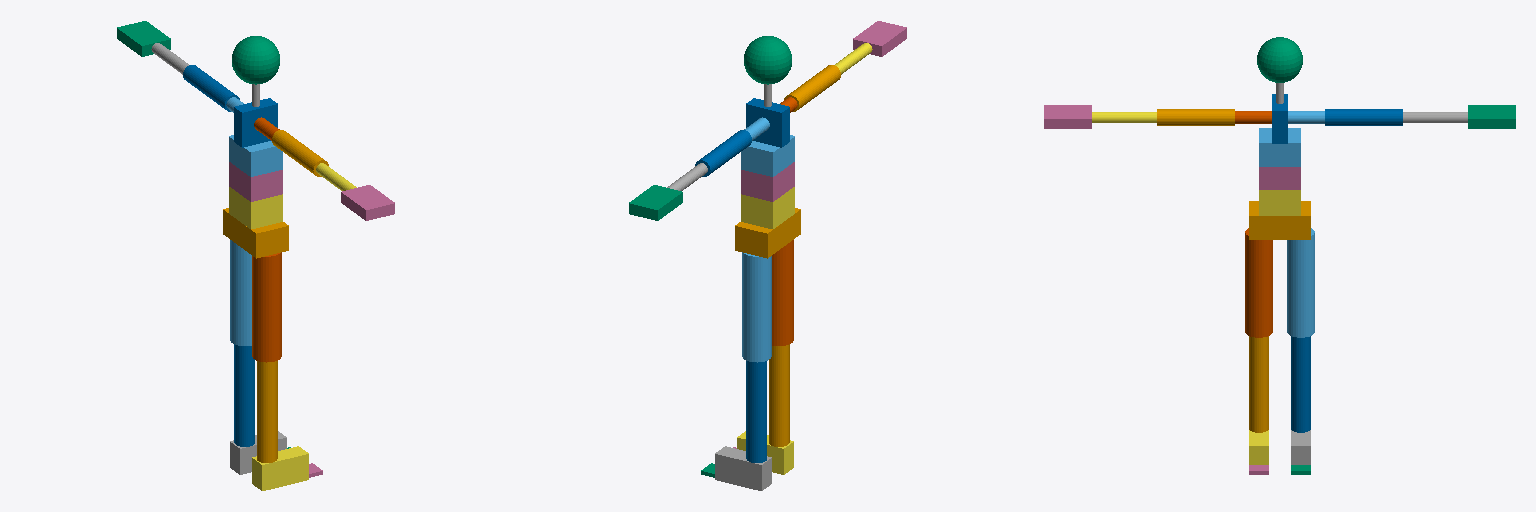
--- Render facts (derived) ---
Views: 3 orthographic renders of the robot side by side, from view 1: azimuth 30°, elevation 25°; view 2: azimuth 150°, elevation 25°; view 3: azimuth 270°, elevation 25°.
Robot: XSensStyleModel_template — 67 links, 66 joints (66 revolute); root link Pelvis; default pose: all joints at 0.
Visible links, largest first — view 1: RightUpperLeg, LeftUpperLeg, RightLowerLeg, LeftLowerLeg, Head, Pelvis, RightFoot, T12, L5, T8, L3, RightHand (+4 smaller); view 2: LeftUpperLeg, RightUpperLeg, LeftLowerLeg, RightLowerLeg, Head, Pelvis, LeftFoot, T12, L5, T8, L3, LeftHand (+4 smaller); view 3: RightUpperLeg, LeftUpperLeg, RightLowerLeg, LeftLowerLeg, Pelvis, Head, T12, RightUpperArm, LeftUpperArm, RightHand, LeftHand, L5 (+6 smaller).
Link boxes in pixels (x1,y1,x2,y2): RightUpperLeg: (252,252,281,362); LeftUpperLeg: (230,240,251,345); RightLowerLeg: (257,361,277,462); LeftLowerLeg: (234,344,254,446); Head: (232,36,279,84); Pelvis: (223,208,288,258); RightFoot: (252,446,308,490); T12: (229,135,282,176); L5: (229,187,282,228); T8: (234,98,277,147); L3: (229,162,282,201); RightHand: (341,185,394,220); LeftUpperLeg: (742,252,771,362); RightUpperLeg: (772,240,793,345); LeftLowerLeg: (746,361,766,462); RightLowerLeg: (769,344,789,446); Head: (744,36,791,84); Pelvis: (735,208,800,258); LeftFoot: (715,446,771,490); T12: (741,135,794,176); L5: (741,187,794,228); T8: (746,98,789,147); L3: (741,162,794,201); LeftHand: (629,185,682,220); RightUpperLeg: (1245,228,1272,337); LeftUpperLeg: (1287,228,1314,337); RightLowerLeg: (1249,336,1268,432); LeftLowerLeg: (1291,336,1310,432); Pelvis: (1249,201,1310,239); Head: (1257,37,1302,82); T12: (1259,128,1300,166); RightUpperArm: (1157,109,1234,125); LeftUpperArm: (1325,109,1402,125); RightHand: (1044,105,1091,128); LeftHand: (1468,105,1515,128); L5: (1259,190,1300,215).
Bounding box of the posed robot: 0.2995 × 1.8 × 1.74 m (x, y, z).
Geometry: primitives only (box / cylinder / sphere), no mesh files.

The robot description file, URDF, robot "XSensStyleModel_template":
<robot name="XSensStyleModel_template">
<!--To open this model with Gazebo replace the null masses, inertias and dimensions of the 'fake links f1 and f2'-->
    <!--LINKS-->
	<!--Link base (1)-->
	<link name="Pelvis">
        <inertial>
            <mass value="4.9968"/>
			<!--COM origin wrt pHipOrigin-->
            <origin xyz="0           0    0.049333" rpy="0 0 0" />
            <inertia ixx="0.028067" iyy="0.011715" izz="0.031651" ixy="0" ixz="0" iyz="0"/>
        </inertial>

        <visual>
			<!--box origin wrt pHipOrigin-->
            <origin xyz="0           0    0.049333" rpy="0 0 0" />
            <geometry>
                <box size="0.13554     0.24008    0.098815"/>
            </geometry>
        </visual>

        <collision>
			<!--box origin wrt pHipOrigin-->
            <origin xyz="0           0    0.049333" rpy="0 0 0" />
            <geometry>
                <box size="0.13554     0.24008    0.098815"/>
            </geometry>
        </collision>

    </link>
    <!--Chain from (2) to (7)-->
	<link name="L5_f1">
        <inertial>
            <mass value="0.0001"/>
            <origin xyz="0 0 0" rpy="0 0 0" />
            <inertia ixx="0.0003" iyy="0.0003" izz="0.0003" ixy="0" ixz="0" iyz="0"/>
        </inertial>
    </link>
	<link name="L5_f2">
        <inertial>
            <mass value="0.0001"/>
            <origin xyz="0 0 0" rpy="0 0 0" />
            <inertia ixx="0.0003" iyy="0.0003" izz="0.0003" ixy="0" ixz="0" iyz="0"/>
        </inertial>
    </link>
	<link name="L5">
        <inertial>
            <mass value="6.3709"/>
			<!--COM origin wrt jL5S1-->
            <origin xyz="0           0    0.054602" rpy="0 0 0" />
            <inertia ixx="0.047176" iyy="0.03559" izz="0.069139" ixy="0" ixz="0" iyz="0"/>
        </inertial>

        <visual>
			<!--box origin origin wrt jL5S1-->
            <origin xyz="0           0    0.054602" rpy="0 0 0" />
            <geometry>
                <box size="0.13554     0.16014      0.1092"/>
            </geometry>
        </visual>

        <collision>
			<!--box origin origin wrt jL5S1-->
            <origin xyz="0           0    0.054602" rpy="0 0 0" />
            <geometry>
                <box size="0.13554     0.16014      0.1092"/>
            </geometry>
        </collision>
    </link>
	<link name="L3_f1">
        <inertial>
            <mass value="0.0001"/>
            <origin xyz="0 0 0" rpy="0 0 0" />
            <inertia ixx="0.0003" iyy="0.0003" izz="0.0003" ixy="0" ixz="0" iyz="0"/>
        </inertial>
    </link>
	<link name="L3_f2">
        <inertial>
            <mass value="0.0001"/>
            <origin xyz="0 0 0" rpy="0 0 0" />
            <inertia ixx="0.0003" iyy="0.0003" izz="0.0003" ixy="0" ixz="0" iyz="0"/>
        </inertial>
    </link>
	<link name="L3">
        <inertial>
            <mass value="6.3709"/>
			<!--COM origin wrt jL4L3-->
            <origin xyz="0           0    0.049336" rpy="0 0 0" />
            <inertia ixx="0.046013" iyy="0.034427" izz="0.069139" ixy="0" ixz="0" iyz="0"/>
        </inertial>

        <visual>
			<!--box origin origin wrt jL4L3-->
            <origin xyz="0           0    0.049336" rpy="0 0 0" />
            <geometry>
                <box size="0.13554     0.16014    0.098672"/>
            </geometry>
        </visual>

        <collision>
			<!--box origin origin wrt jL4L3-->
            <origin xyz="0           0    0.049336" rpy="0 0 0" />
            <geometry>
                <box size="0.13554     0.16014    0.098672"/>
            </geometry>
        </collision>
    </link>
	<link name="T12_f1">
        <inertial>
            <mass value="0.0001"/>
            <origin xyz="0 0 0" rpy="0 0 0" />
            <inertia ixx="0.0003" iyy="0.0003" izz="0.0003" ixy="0" ixz="0" iyz="0"/>
        </inertial>
    </link>
	<link name="T12_f2">
        <inertial>
            <mass value="0.0001"/>
            <origin xyz="0 0 0" rpy="0 0 0" />
            <inertia ixx="0.0003" iyy="0.0003" izz="0.0003" ixy="0" ixz="0" iyz="0"/>
        </inertial>
    </link>
	<link name="T12">
        <inertial>
            <mass value="6.3709"/>
			<!--COM origin wrt jL1T12-->
            <origin xyz="0           0    0.049336" rpy="0 0 0" />
            <inertia ixx="0.046013" iyy="0.034427" izz="0.069139" ixy="0" ixz="0" iyz="0"/>
        </inertial>

        <visual>
			<!--box origin origin wrt jL1T12-->
            <origin xyz="0           0    0.049336" rpy="0 0 0" />
            <geometry>
                <box size="0.13554     0.16014    0.098672"/>
            </geometry>
        </visual>

        <collision>
			<!--box origin origin wrt jL1T12-->
            <origin xyz="0           0    0.049336" rpy="0 0 0" />
            <geometry>
                <box size="0.13554     0.16014    0.098672"/>
            </geometry>
        </collision>
    </link>
	<link name="T8_f1">
        <inertial>
            <mass value="0.0001"/>
            <origin xyz="0 0 0" rpy="0 0 0" />
            <inertia ixx="0.0003" iyy="0.0003" izz="0.0003" ixy="0" ixz="0" iyz="0"/>
        </inertial>
    </link>
	<link name="T8_f2">
        <inertial>
            <mass value="0.0001"/>
            <origin xyz="0 0 0" rpy="0 0 0" />
            <inertia ixx="0.0003" iyy="0.0003" izz="0.0003" ixy="0" ixz="0" iyz="0"/>
        </inertial>
    </link>
	<link name="T8">
        <inertial>
            <mass value="2.4984"/>
			<!--COM origin wrt jT9T8-->
            <origin xyz="0           0    0.069461" rpy="0 0 0" />
            <inertia ixx="0.0047729" iyy="0.0087452" izz="0.0054818" ixy="0" ixz="0" iyz="0"/>
        </inertial>

        <visual>
			<!--box origin wrt jT9T8-->
            <origin xyz="0           0    0.069461" rpy="0 0 0" />
            <geometry>
                <box size="0.15068     0.06021     0.13892"/>
            </geometry>
        </visual>

        <collision>
			<!--box origin wrt jT9T8-->
            <origin xyz="0           0    0.069461" rpy="0 0 0" />
            <geometry>
                <box size="0.15068     0.06021     0.13892"/>
            </geometry>
        </collision>

    </link>
	<link name="Neck_f1">
        <inertial>
            <mass value="0.0001"/>
            <origin xyz="0 0 0" rpy="0 0 0" />
            <inertia ixx="0.0003" iyy="0.0003" izz="0.0003" ixy="0" ixz="0" iyz="0"/>
        </inertial>
    </link>
	<link name="Neck_f2">
        <inertial>
            <mass value="0.0001"/>
            <origin xyz="0 0 0" rpy="0 0 0" />
            <inertia ixx="0.0003" iyy="0.0003" izz="0.0003" ixy="0" ixz="0" iyz="0"/>
        </inertial>
    </link>
	<link name="Neck">
        <inertial>
            <mass value="0.74952"/>
			<!--COM origin wrt jT1C7-->
            <origin xyz="0           0    0.045917" rpy="0 0 0" />
            <inertia ixx="0.0006888" iyy="0.0006888" izz="0.00032408" ixy="0" ixz="0" iyz="0"/>
        </inertial>

        <visual>
			<!--box origin wrt jT1C7-->
            <origin xyz="0           0    0.045917" rpy="0 0 0" />
            <geometry>
		<cylinder length="0.091834" radius="0.014704"/>
            </geometry>
        </visual>

        <collision>
			<!--box origin wrt jT1C7-->
            <origin xyz="0           0    0.045917" rpy="0 0 0" />
            <geometry>
                <cylinder length="0.091834" radius="0.014704"/>
            </geometry>
        </collision>
    </link>
	<link name="Head_f1">
        <inertial>
            <mass value="0.0001"/>
            <origin xyz="0 0 0" rpy="0 0 0" />
            <inertia ixx="0.0003" iyy="0.0003" izz="0.0003" ixy="0" ixz="0" iyz="0"/>
        </inertial>
    </link>
	<link name="Head_f2">
        <inertial>
            <mass value="0.0001"/>
            <origin xyz="0 0 0" rpy="0 0 0" />
            <inertia ixx="0.0003" iyy="0.0003" izz="0.0003" ixy="0" ixz="0" iyz="0"/>
        </inertial>
    </link>
	<link name="Head">
        <inertial>
            <mass value="2.2486"/>
			<!--COM origin wrt jC1Head-->
            <origin xyz="0           0    0.087994" rpy="0 0 0" />
            <inertia ixx="0.0069641" iyy="0.0069641" izz="0.0069641" ixy="0" ixz="0" iyz="0"/>
        </inertial>

        <visual>
			<!--boc origin wrt jC1Head-->
            <origin xyz="0           0    0.087994" rpy="0 0 0" />
            <geometry>
                <sphere radius="0.087994"/>
            </geometry>
        </visual>

        <collision>
			<!--box origin wrt jC1Head-->
            <origin xyz="0           0    0.087994" rpy="0 0 0" />
            <geometry>
                <sphere radius="0.087994"/>
            </geometry>
        </collision>

    </link>
	<!--Chain from (8) to (11)-->
	<link name="RightShoulder_f1">
        <inertial>
            <mass value="0.0001"/>
            <origin xyz="0 0 0" rpy="0 0 0" />
            <inertia ixx="0.0003" iyy="0.0003" izz="0.0003" ixy="0" ixz="0" iyz="0"/>
        </inertial>
    </link>
	<link name="RightShoulder_f2">
        <inertial>
            <mass value="0.0001"/>
            <origin xyz="0 0 0" rpy="0 0 0" />
            <inertia ixx="0.0003" iyy="0.0003" izz="0.0003" ixy="0" ixz="0" iyz="0"/>
        </inertial>
    </link>
	<link name="RightShoulder">
        <inertial>
            <mass value="1.9363"/>
			<!--COM origin wrt jRightC7Shoulder-->
            <origin xyz="0   -0.069978           0" rpy="0 0 0" />
            <inertia ixx="0.0034631" iyy="0.00060506" izz="0.0034631" ixy="0" ixz="0" iyz="0"/>
        </inertial>

        <visual>
			<!--box origin wrt jRightC7Shoulder. RPY rotated of pi/2.-->
            <origin xyz="0   -0.069978           0" rpy="1.5708 0 0" />
            <geometry>
                <cylinder length="0.13996" radius="0.025"/>
            </geometry>
        </visual>

        <collision>
			<!--box origin wrt jRightC7Shoulder. RPY rotated of pi/2.-->
            <origin xyz="0   -0.069978           0" rpy="1.5708 0 0" />
            <geometry>
                <cylinder length="0.13996" radius="0.025"/>
            </geometry>
        </collision>

    </link>
	<link name="RightUpperArm_f1">
        <inertial>
            <mass value="0.0001"/>
            <origin xyz="0 0 0" rpy="0 0 0" />
            <inertia ixx="0.0003" iyy="0.0003" izz="0.0003" ixy="0" ixz="0" iyz="0"/>
        </inertial>
    </link>
	<link name="RightUpperArm_f2">
        <inertial>
            <mass value="0.0001"/>
            <origin xyz="0 0 0" rpy="0 0 0" />
            <inertia ixx="0.0003" iyy="0.0003" izz="0.0003" ixy="0" ixz="0" iyz="0"/>
        </inertial>
    </link>
    <link name="RightUpperArm">
        <inertial>
            <mass value="1.8738"/>
			<!--COM origin wrt jRightShoulder-->
            <origin xyz="0    -0.15002           0" rpy="0 0 0" />
            <inertia ixx="0.014553" iyy="0.014553" izz="0.00099006" ixy="0" ixz="0" iyz="0"/>
        </inertial>

        <visual>
			<!--box origin wrt jRightShoulder. RPY rotated of pi/2.-->
            <origin xyz="0    -0.15002           0" rpy="1.5708 0 0" />
            <geometry>
                <cylinder length="0.30005" radius="0.032507"/>
            </geometry>
        </visual>

        <collision>
			<!--box origin wrt jRightShoulder. RPY rotated of pi/2.-->
            <origin xyz="0    -0.15002           0" rpy="1.5708 0 0" />
            <geometry>
                <cylinder length="0.30005" radius="0.032507"/>
            </geometry>
        </collision>

    </link>
	<link name="RightForeArm_f1">
        <inertial>
            <mass value="0.0001"/>
            <origin xyz="0 0 0" rpy="0 0 0" />
            <inertia ixx="0.0003" iyy="0.0003" izz="0.0003" ixy="0" ixz="0" iyz="0"/>
        </inertial>
    </link>
	<link name="RightForeArm_f2">
        <inertial>
            <mass value="0.0001"/>
            <origin xyz="0 0 0" rpy="0 0 0" />
            <inertia ixx="0.0003" iyy="0.0003" izz="0.0003" ixy="0" ixz="0" iyz="0"/>
        </inertial>
    </link>
	<link name="RightForeArm">
        <inertial>
            <mass value="1.2492"/>
			<!--COM origin wrt jRightElbow-->
            <origin xyz="0    -0.12263           0" rpy="0 0 0" />
            <inertia ixx="0.0064089" iyy="0.0064089" izz="0.00029335" ixy="0" ixz="0" iyz="0"/>
        </inertial>

        <visual>
			<!--box origin wrt jRightElbow. RPY rotated of pi/2.-->
            <origin xyz="0    -0.12263           0" rpy="1.5708 0 0" />
            <geometry>
                <cylinder length="0.24527" radius="0.021672"/>
            </geometry>
        </visual>

        <collision>
			<!--box origin wrt jRightElbow. RPY rotated of pi/2.-->
            <origin xyz="0    -0.12263           0" rpy="1.5708 0 0" />
            <geometry>
                <cylinder length="0.24527" radius="0.021672"/>
            </geometry>
        </collision>

    </link>
	<link name="RightHand_f1">
        <inertial>
            <mass value="0.0001"/>
            <origin xyz="0 0 0" rpy="0 0 0" />
            <inertia ixx="0.0003" iyy="0.0003" izz="0.0003" ixy="0" ixz="0" iyz="0"/>
        </inertial>
    </link>
	<link name="RightHand_f2">
        <inertial>
            <mass value="0.0001"/>
            <origin xyz="0 0 0" rpy="0 0 0" />
            <inertia ixx="0.0003" iyy="0.0003" izz="0.0003" ixy="0" ixz="0" iyz="0"/>
        </inertial>
    </link>
	<link name="RightHand">
        <inertial>
            <mass value="0.37476"/>
			<!--COM origin wrt jRightWrist-->
            <origin xyz="0   -0.091535           0" rpy="0 0 0" />
            <inertia ixx="0.0011053" iyy="0.00052385" izz="0.0015118" ixy="0" ixz="0" iyz="0"/>
        </inertial>

        <visual>
			<!--box origin wrt jRightWrist-->
            <origin xyz="0   -0.091535           0" rpy="0 0 0" />
            <geometry>
                <box size="0.12205     0.18307    0.043343"/>
            </geometry>
        </visual>

        <collision>
			<!--box origin wrt jRightWrist-->
            <origin xyz="0   -0.091535           0" rpy="0 0 0" />
            <geometry>
                <box size="0.12205     0.18307    0.043343"/>
            </geometry>
        </collision>

    </link>
	<!--Chain from (12) to (15)-->
	<link name="LeftShoulder_f1">
        <inertial>
            <mass value="0.0001"/>
            <origin xyz="0 0 0" rpy="0 0 0" />
            <inertia ixx="0.0003" iyy="0.0003" izz="0.0003" ixy="0" ixz="0" iyz="0"/>
        </inertial>
    </link>
	<link name="LeftShoulder_f2">
        <inertial>
            <mass value="0.0001"/>
            <origin xyz="0 0 0" rpy="0 0 0" />
            <inertia ixx="0.0003" iyy="0.0003" izz="0.0003" ixy="0" ixz="0" iyz="0"/>
        </inertial>
    </link>
	<link name="LeftShoulder">
        <inertial>
            <mass value="1.9363"/>
			<!--COM origin wrt jLeftC7Shoulder-->
            <origin xyz="0    0.069978           0" rpy="0 0 0" />
            <inertia ixx="0.0034631" iyy="0.00060506" izz="0.0034631" ixy="0" ixz="0" iyz="0"/>
        </inertial>

        <visual>
			<!--box origin wrt jLeftC7Shoulder. RPY rotated of pi/2.-->
            <origin xyz="0    0.069978           0" rpy="1.5708 0 0" />
            <geometry>
                <cylinder length="0.13996" radius="0.025"/>
            </geometry>
        </visual>

        <collision>
			<!--box origin wrt jLeftC7Shoulder. RPY rotated of pi/2.-->
            <origin xyz="0    0.069978           0" rpy="1.5708 0 0" />
            <geometry>
                <cylinder length="0.13996" radius="0.025"/>
            </geometry>
        </collision>

    </link>
	<link name="LeftUpperArm_f1">
        <inertial>
            <mass value="0.0001"/>
            <origin xyz="0 0 0" rpy="0 0 0" />
            <inertia ixx="0.0003" iyy="0.0003" izz="0.0003" ixy="0" ixz="0" iyz="0"/>
        </inertial>
    </link>
	<link name="LeftUpperArm_f2">
        <inertial>
            <mass value="0.0001"/>
            <origin xyz="0 0 0" rpy="0 0 0" />
            <inertia ixx="0.0003" iyy="0.0003" izz="0.0003" ixy="0" ixz="0" iyz="0"/>
        </inertial>
    </link>
	<link name="LeftUpperArm">
        <inertial>
            <mass value="1.8738"/>
			<!--COM origin wrt jLeftShoulder-->
            <origin xyz="0     0.15002           0" rpy="0 0 0" />
            <inertia ixx="0.014553" iyy="0.014553" izz="0.00099006" ixy="0" ixz="0" iyz="0"/>
        </inertial>

        <visual>
			<!--box origin wrt jLeftShoulder. RPY rotated of pi/2.-->
            <origin xyz="0     0.15002           0" rpy="1.5708 0 0" />
            <geometry>
                <cylinder length="0.30005" radius="0.032507"/>
            </geometry>
        </visual>

        <collision>
			<!--box origin wrt jLeftShoulder. RPY rotated of pi/2.-->
            <origin xyz="0     0.15002           0" rpy="1.5708 0 0" />
            <geometry>
                <cylinder length="0.30005" radius="0.032507"/>
            </geometry>
        </collision>

    </link>
	<link name="LeftForeArm_f1">
        <inertial>
            <mass value="0.0001"/>
            <origin xyz="0 0 0" rpy="0 0 0" />
            <inertia ixx="0.0003" iyy="0.0003" izz="0.0003" ixy="0" ixz="0" iyz="0"/>
        </inertial>
    </link>
	<link name="LeftForeArm_f2">
        <inertial>
            <mass value="0.0001"/>
            <origin xyz="0 0 0" rpy="0 0 0" />
            <inertia ixx="0.0003" iyy="0.0003" izz="0.0003" ixy="0" ixz="0" iyz="0"/>
        </inertial>
    </link>
	<link name="LeftForeArm">
        <inertial>
            <mass value="1.2492"/>
			<!--COM origin wrt jLeftElbow-->
            <origin xyz="0     0.12263           0" rpy="0 0 0" />
            <inertia ixx="0.0064089" iyy="0.0064089" izz="0.00029335" ixy="0" ixz="0" iyz="0"/>
        </inertial>

        <visual>
			<!--box origin wrt jLeftElbow. RPY rotated of pi/2.-->
            <origin xyz="0     0.12263           0" rpy="1.5708 0 0" />
            <geometry>
                <cylinder length="0.24527" radius="0.021672"/>
            </geometry>
        </visual>

        <collision>
			<!--box origin wrt jLeftElbow. RPY rotated of pi/2.-->
            <origin xyz="0     0.12263           0" rpy="1.5708 0 0" />
            <geometry>
                <cylinder length="0.24527" radius="0.021672"/>
            </geometry>
        </collision>

    </link>
	<link name="LeftHand_f1">
        <inertial>
            <mass value="0.0001"/>
            <origin xyz="0 0 0" rpy="0 0 0" />
            <inertia ixx="0.0003" iyy="0.0003" izz="0.0003" ixy="0" ixz="0" iyz="0"/>
        </inertial>
    </link>
	<link name="LeftHand_f2">
        <inertial>
            <mass value="0.0001"/>
            <origin xyz="0 0 0" rpy="0 0 0" />
            <inertia ixx="0.0003" iyy="0.0003" izz="0.0003" ixy="0" ixz="0" iyz="0"/>
        </inertial>
    </link>
	<link name="LeftHand">
        <inertial>
            <mass value="0.37476"/>
			<!--COM origin wrt jLeftWrist-->
            <origin xyz="0    0.091535           0" rpy="0 0 0" />
            <inertia ixx="0.0011053" iyy="0.00052385" izz="0.0015118" ixy="0" ixz="0" iyz="0"/>
        </inertial>

        <visual>
			<!--COM origin wrt jLeftWrist-->
            <origin xyz="0    0.091535           0" rpy="0 0 0" />
            <geometry>
                <box size="0.12205     0.18307    0.043343"/>
            </geometry>
        </visual>

        <collision>
			<!--COM origin wrt jLeftWrist-->
            <origin xyz="0    0.091535           0" rpy="0 0 0" />
            <geometry>
                <box size="0.12205     0.18307    0.043343"/>
            </geometry>
        </collision>

    </link>
	<!--Chain from (16) to (19)-->
	<link name="RightUpperLeg_f1">
        <inertial>
            <mass value="0.0001"/>
            <origin xyz="0 0 0" rpy="0 0 0" />
            <inertia ixx="0.0003" iyy="0.0003" izz="0.0003" ixy="0" ixz="0" iyz="0"/>
        </inertial>
    </link>
	<link name="RightUpperLeg_f2">
        <inertial>
            <mass value="0.0001"/>
            <origin xyz="0 0 0" rpy="0 0 0" />
            <inertia ixx="0.0003" iyy="0.0003" izz="0.0003" ixy="0" ixz="0" iyz="0"/>
        </inertial>
    </link>
    <link name="RightUpperLeg">
        <inertial>
            <mass value="7.8075"/>
			<!--COM origin wrt jRightHip-->
            <origin xyz="0           0    -0.21002" rpy="0 0 0" />
            <inertia ixx="0.12026" iyy="0.12026" izz="0.010935" ixy="0" ixz="0" iyz="0"/>
        </inertial>

        <visual>
			<!--box origin wrt jRightHip-->
            <origin xyz="0           0    -0.21002" rpy="0 0 0" />
            <geometry>
                <cylinder length="0.42004" radius="0.052927"/>
            </geometry>
        </visual>

        <collision>
			<!--box origin wrt jRightHip-->
            <origin xyz="0           0    -0.21002" rpy="0 0 0" />
            <geometry>
                <cylinder length="0.42004" radius="0.052927"/>
            </geometry>
        </collision>

    </link>
	<link name="RightLowerLeg_f1">
        <inertial>
            <mass value="0.0001"/>
            <origin xyz="0 0 0" rpy="0 0 0" />
            <inertia ixx="0.0003" iyy="0.0003" izz="0.0003" ixy="0" ixz="0" iyz="0"/>
        </inertial>
    </link>
	<link name="RightLowerLeg_f2">
        <inertial>
            <mass value="0.0001"/>
            <origin xyz="0 0 0" rpy="0 0 0" />
            <inertia ixx="0.0003" iyy="0.0003" izz="0.0003" ixy="0" ixz="0" iyz="0"/>
        </inertial>
    </link>
    <link name="RightLowerLeg">
        <inertial>
            <mass value="2.2798"/>
			<!--COM origin wrt jRightKnee-->
            <origin xyz="0           0    -0.20367" rpy="0 0 0" />
            <inertia ixx="0.032328" iyy="0.032328" izz="0.0016104" ixy="0" ixz="0" iyz="0"/>
        </inertial>

        <visual>
			<!--box origin wrt jRightKnee-->
            <origin xyz="0           0    -0.20367" rpy="0 0 0" />
            <geometry>
                <cylinder length="0.40734" radius="0.037587"/>
            </geometry>
        </visual>

        <collision>
			<!--box origin wrt jRightKnee-->
            <origin xyz="0           0    -0.20367" rpy="0 0 0" />
            <geometry>
                <cylinder length="0.40734" radius="0.037587"/>
            </geometry>
        </collision>

    </link>
	<link name="RightFoot_f1">
        <inertial>
            <mass value="0.0001"/>
            <origin xyz="0 0 0" rpy="0 0 0" />
            <inertia ixx="0.0003" iyy="0.0003" izz="0.0003" ixy="0" ixz="0" iyz="0"/>
        </inertial>
    </link>
	<link name="RightFoot_f2">
        <inertial>
            <mass value="0.0001"/>
            <origin xyz="0 0 0" rpy="0 0 0" />
            <inertia ixx="0.0003" iyy="0.0003" izz="0.0003" ixy="0" ixz="0" iyz="0"/>
        </inertial>
    </link>
    <link name="RightFoot">
        <inertial>
            <mass value="0.81198"/>
			<!--COM origin wrt jRightAnkle-->
            <origin xyz="0.05524           0   -0.052405" rpy="0 0 0" />
            <inertia ixx="0.0011257" iyy="0.0033102" izz="0.0029493" ixy="0" ixz="0" iyz="0"/>
        </inertial>

        <visual>
			<!--box origin wrt jRightAnkle-->
	    	<origin xyz="0.05524           0   -0.052405" rpy="0 0 0" />
            <geometry>
                <box size="0.19477    0.075174     0.10481"/>
            </geometry>
        </visual>

        <collision>
			<!--box origin wrt jRightAnkle-->
		    <origin xyz="0.05524           0   -0.052405" rpy="0 0 0" />
	            <geometry>
	                <box size="0.19477    0.075174     0.10481"/>
	            </geometry>
        </collision>

    </link>
	<link name="RightToe_f1">
        <inertial>
            <mass value="0.0001"/>
            <origin xyz="0 0 0" rpy="0 0 0" />
            <inertia ixx="0.0003" iyy="0.0003" izz="0.0003" ixy="0" ixz="0" iyz="0"/>
        </inertial>
    </link>
	<link name="RightToe_f2">
        <inertial>
            <mass value="0.0001"/>
            <origin xyz="0 0 0" rpy="0 0 0" />
            <inertia ixx="0.0003" iyy="0.0003" izz="0.0003" ixy="0" ixz="0" iyz="0"/>
        </inertial>
    </link>
    <link name="RightToe">
        <inertial>
            <mass value="0.09369"/>
			<!--COM origin wrt jRightBallFoot-->
            <origin xyz="0.029147           0           0" rpy="0 0 0" />
            <inertia ixx="4.579e-05" iyy="2.8201e-05" izz="7.0653e-05" ixy="0" ixz="0" iyz="0"/>
        </inertial>

        <visual>
			<!--box origin wrt jRightBallFoot-->
            <origin xyz="0.029147           0           0" rpy="0 0 0" />
            <geometry>
                <box size="0.058294    0.075174    0.014622"/>
            </geometry>
        </visual>

        <collision>
			<!--box origin wrt jRightBallFoot-->
            <origin xyz="0.029147           0           0" rpy="0 0 0" />
            <geometry>
                <box size="0.058294    0.075174    0.014622"/>
            </geometry>
        </collision>
    </link>
	<!--Chain from (20) to (23)-->
	<link name="LeftUpperLeg_f1">
        <inertial>
            <mass value="0.0001"/>
            <origin xyz="0 0 0" rpy="0 0 0" />
            <inertia ixx="0.0003" iyy="0.0003" izz="0.0003" ixy="0" ixz="0" iyz="0"/>
        </inertial>
    </link>
	<link name="LeftUpperLeg_f2">
        <inertial>
            <mass value="0.0001"/>
            <origin xyz="0 0 0" rpy="0 0 0" />
            <inertia ixx="0.0003" iyy="0.0003" izz="0.0003" ixy="0" ixz="0" iyz="0"/>
        </inertial>
    </link>
    <link name="LeftUpperLeg">
        <inertial>
            <mass value="7.8075"/>
			<!--COM origin wrt jLeftHip-->
            <origin xyz="0           0    -0.21002" rpy="0 0 0" />
            <inertia ixx="0.12026" iyy="0.12026" izz="0.010935" ixy="0" ixz="0" iyz="0"/>
        </inertial>

        <visual>
			<!--box origin wrt jLeftHip-->
            <origin xyz="0           0    -0.21002" rpy="0 0 0" />
            <geometry>
                <cylinder length="0.42004" radius="-0.052927"/>
            </geometry>
        </visual>

        <collision>
			<!--box origin wrt jLeftHip-->
            <origin xyz="0           0    -0.21002" rpy="0 0 0" />
            <geometry>
                <cylinder length="0.42004" radius="-0.052927"/>
            </geometry>
        </collision>

    </link>
	<link name="LeftLowerLeg_f1">
        <inertial>
            <mass value="0.0001"/>
            <origin xyz="0 0 0" rpy="0 0 0" />
            <inertia ixx="0.0003" iyy="0.0003" izz="0.0003" ixy="0" ixz="0" iyz="0"/>
        </inertial>
    </link>
	<link name="LeftLowerLeg_f2">
        <inertial>
            <mass value="0.0001"/>
            <origin xyz="0 0 0" rpy="0 0 0" />
            <inertia ixx="0.0003" iyy="0.0003" izz="0.0003" ixy="0" ixz="0" iyz="0"/>
        </inertial>
    </link>
	<link name="LeftLowerLeg">
        <inertial>
            <mass value="2.2798"/>
			<!--COM origin wrt jLeftKnee-->
            <origin xyz="0           0    -0.20367" rpy="0 0 0" />
            <inertia ixx="0.032328" iyy="0.032328" izz="0.0016104" ixy="0" ixz="0" iyz="0"/>
        </inertial>

        <visual>
			<!--box origin wrt jLeftKnee-->
            <origin xyz="0           0    -0.20367" rpy="0 0 0" />
            <geometry>
		<cylinder length="0.40734" radius="0.037587"/>
            </geometry>
        </visual>

        <collision>
			<!--box origin wrt jLeftKnee-->
            <origin xyz="0           0    -0.20367" rpy="0 0 0" />
            <geometry>
		<cylinder length="0.40734" radius="0.037587"/>
            </geometry>
        </collision>

    </link>
	<link name="LeftFoot_f1">
        <inertial>
            <mass value="0.0001"/>
            <origin xyz="0 0 0" rpy="0 0 0" />
            <inertia ixx="0.0003" iyy="0.0003" izz="0.0003" ixy="0" ixz="0" iyz="0"/>
        </inertial>
    </link>
	<link name="LeftFoot_f2">
        <inertial>
            <mass value="0.0001"/>
            <origin xyz="0 0 0" rpy="0 0 0" />
            <inertia ixx="0.0003" iyy="0.0003" izz="0.0003" ixy="0" ixz="0" iyz="0"/>
        </inertial>
    </link>
    <link name="LeftFoot">
        <inertial>
            <mass value="0.81198"/>
			<!--COM origin wrt jLeftAnkle-->
            <origin xyz="0.05524           0   -0.052405" rpy="0 0 0" />
            <inertia ixx="0.0011257" iyy="0.0033102" izz="0.0029493" ixy="0" ixz="0" iyz="0"/>
        </inertial>

        <visual>
			<!--box origin wrt jLeftAnkle-->
	   	 	<origin xyz="0.05524           0   -0.052405" rpy="0 0 0" />
            <geometry>
                <box size="0.19477    0.075174     0.10481"/>
            </geometry>
        </visual>

        <collision>
			<!--box origin wrt jLeftAnkle-->
		    <origin xyz="0.05524           0   -0.052405" rpy="0 0 0" />
	            <geometry>
	                <box size="0.19477    0.075174     0.10481"/>
	            </geometry>
        </collision>

    </link>
	<link name="LeftToe_f1">
        <inertial>
            <mass value="0.0001"/>
            <origin xyz="0 0 0" rpy="0 0 0" />
            <inertia ixx="0.0003" iyy="0.0003" izz="0.0003" ixy="0" ixz="0" iyz="0"/>
        </inertial>
    </link>
	<link name="LeftToe_f2">
        <inertial>
            <mass value="0.0001"/>
            <origin xyz="0 0 0" rpy="0 0 0" />
            <inertia ixx="0.0003" iyy="0.0003" izz="0.0003" ixy="0" ixz="0" iyz="0"/>
        </inertial>
    </link>
	<link name="LeftToe">
        <inertial>
            <mass value="0.09369"/>
			<!--COM origin wrt jLeftBallFoot-->
            <origin xyz="0.029147           0           0" rpy="0 0 0" />
            <inertia ixx="4.579e-05" iyy="2.8201e-05" izz="7.0653e-05" ixy="0" ixz="0" iyz="0"/>
        </inertial>

        <visual>
			<!--box origin wrt jLeftBallFoot-->
            <origin xyz="0.029147           0           0" rpy="0 0 0" />
            <geometry>
                <box size="0.058294    0.075174    0.014622"/>
            </geometry>
        </visual>

        <collision>
			<!--box origin wrt jLeftBallFoot-->
            <origin xyz="0.029147           0           0" rpy="0 0 0" />
            <geometry>
                <box size="0.058294    0.075174    0.014622"/>
            </geometry>
        </collision>
    </link>


	<!--JOINTS-->
	<!--Chain from (2) to (7)-->
	<joint name="jL5S1_rotx" type="revolute">
        <origin xyz="1.5e-05           0    0.098741" rpy="0 0 0"/>
        <parent link="Pelvis"/>
        <child link="L5_f1"/>
        <dynamics damping="0.1" friction="0.0"/>
        <limit effort="30" velocity="1.0" lower="-10.0" upper="10.0" />
        <axis xyz="1 0 0" />
    </joint>
	<joint name="jL5S1_roty" type="revolute">
        <origin xyz="0 0 0" rpy="0 0 0"/>
        <parent link="L5_f1"/>
        <child link="L5_f2"/>
        <dynamics damping="0.1" friction="0.0"/>
        <limit effort="30" velocity="1.0" lower="-10.0" upper="10.0" />
        <axis xyz="0 1 0" />
    </joint>
    <joint name="jL5S1_rotz" type="revolute">
        <origin xyz="0 0 0" rpy="0 0 0"/>
        <parent link="L5_f2"/>
        <child link="L5"/>
        <dynamics damping="0.1" friction="0.0"/>
        <limit effort="30" velocity="1.0" lower="-10.0" upper="10.0" />
        <axis xyz="0 0 1" />
    </joint>
	<joint name="jL4L3_rotx" type="revolute">
        <origin xyz="-2.7e-05           0      0.1092" rpy="0 0 0"/>
        <parent link="L5"/>
        <child link="L3_f1"/>
        <dynamics damping="0.1" friction="0.0"/>
        <limit effort="30" velocity="1.0" lower="-10.0" upper="10.0" />
        <axis xyz="1 0 0" />
    </joint>
	<joint name="jL4L3_roty" type="revolute">
        <origin xyz="0 0 0" rpy="0 0 0"/>
        <parent link="L3_f1"/>
        <child link="L3_f2"/>
        <dynamics damping="0.1" friction="0.0"/>
        <limit effort="30" velocity="1.0" lower="-10.0" upper="10.0" />
        <axis xyz="0 1 0" />
    </joint>
    <joint name="jL4L3_rotz" type="revolute">
        <origin xyz="0 0 0" rpy="0 0 0"/>
        <parent link="L3_f2"/>
        <child link="L3"/>
        <dynamics damping="0.1" friction="0.0"/>
        <limit effort="30" velocity="1.0" lower="-10.0" upper="10.0" />
        <axis xyz="0 0 1" />
    </joint>
	<joint name="jL1T12_rotx" type="revolute">
        <origin xyz="0           0    0.098672" rpy="0 0 0"/>
        <parent link="L3"/>
        <child link="T12_f1"/>
        <dynamics damping="0.1" friction="0.0"/>
        <limit effort="30" velocity="1.0" lower="-10.0" upper="10.0" />
        <axis xyz="1 0 0" />
    </joint>
	<joint name="jL1T12_roty" type="revolute">
        <origin xyz="0 0 0" rpy="0 0 0"/>
        <parent link="T12_f1"/>
        <child link="T12_f2"/>
        <dynamics damping="0.1" friction="0.0"/>
        <limit effort="30" velocity="1.0" lower="-10.0" upper="10.0" />
        <axis xyz="0 1 0" />
    </joint>
    <joint name="jL1T12_rotz" type="revolute">
        <origin xyz="0 0 0" rpy="0 0 0"/>
        <parent link="T12_f2"/>
        <child link="T12"/>
        <dynamics damping="0.1" friction="0.0"/>
        <limit effort="30" velocity="1.0" lower="-10.0" upper="10.0" />
        <axis xyz="0 0 1" />
    </joint>
	<joint name="jT9T8_rotx" type="revolute">
        <origin xyz="0           0    0.098672" rpy="0 0 0"/>
        <parent link="T12"/>
        <child link="T8_f1"/>
        <dynamics damping="0.1" friction="0.0"/>
        <limit effort="30" velocity="1.0" lower="-10.0" upper="10.0" />
        <axis xyz="1 0 0" />
    </joint>
	<joint name="jT9T8_roty" type="revolute">
        <origin xyz="0 0 0" rpy="0 0 0"/>
        <parent link="T8_f1"/>
        <child link="T8_f2"/>
        <dynamics damping="0.1" friction="0.0"/>
        <limit effort="30" velocity="1.0" lower="-10.0" upper="10.0" />
        <axis xyz="0 1 0" />
    </joint>
    <joint name="jT9T8_rotz" type="revolute">
        <origin xyz="0 0 0" rpy="0 0 0"/>
        <parent link="T8_f2"/>
        <child link="T8"/>
        <dynamics damping="0.1" friction="0.0"/>
        <limit effort="30" velocity="1.0" lower="-10.0" upper="10.0" />
        <axis xyz="0 0 1" />
    </joint>
	<joint name="jT1C7_rotx" type="revolute">
        <origin xyz="0           0     0.13892" rpy="0 0 0"/>
        <parent link="T8"/>
        <child link="Neck_f1"/>
        <dynamics damping="0.1" friction="0.0"/>
        <limit effort="30" velocity="1.0" lower="-10.0" upper="10.0" />
        <axis xyz="1 0 0" />
    </joint>
	<joint name="jT1C7_roty" type="revolute">
        <origin xyz="0 0 0" rpy="0 0 0"/>
        <parent link="Neck_f1"/>
        <child link="Neck_f2"/>
        <dynamics damping="0.1" friction="0.0"/>
        <limit effort="30" velocity="1.0" lower="-10.0" upper="10.0" />
        <axis xyz="0 1 0" />
    </joint>
    <joint name="jT1C7_rotz" type="revolute">
        <origin xyz="0 0 0" rpy="0 0 0"/>
        <parent link="Neck_f2"/>
        <child link="Neck"/>
        <dynamics damping="0.1" friction="0.0"/>
        <limit effort="30" velocity="1.0" lower="-10.0" upper="10.0" />
        <axis xyz="0 0 1" />
    </joint>
	<joint name="jC1Head_rotx" type="revolute">
        <origin xyz="-6.5e-05           0    0.091834" rpy="0 0 0"/>
        <parent link="Neck"/>
        <child link="Head_f1"/>
        <dynamics damping="0.1" friction="0.0"/>
        <limit effort="30" velocity="1.0" lower="-10.0" upper="10.0" />
        <axis xyz="1 0 0" />
    </joint>
	<joint name="jC1Head_roty" type="revolute">
        <origin xyz="0 0 0" rpy="0 0 0"/>
        <parent link="Head_f1"/>
        <child link="Head_f2"/>
        <dynamics damping="0.1" friction="0.0"/>
        <limit effort="30" velocity="1.0" lower="-10.0" upper="10.0" />
        <axis xyz="0 1 0" />
    </joint>
    <joint name="jC1Head_rotz" type="revolute">
        <origin xyz="0 0 0" rpy="0 0 0"/>
        <parent link="Head_f2"/>
        <child link="Head"/>
        <dynamics damping="0.1" friction="0.0"/>
        <limit effort="30" velocity="1.0" lower="-10.0" upper="10.0" />
        <axis xyz="0 0 1" />
    </joint>
	<!--Chain from (8) to (11)-->
	<joint name="jRightC7Shoulder_rotx" type="revolute">
        <origin xyz="0   -0.030105    0.077497" rpy="0 0 0"/>
        <parent link="T8"/>
        <child link="RightShoulder_f1"/>
        <dynamics damping="0.1" friction="0.0"/>
        <limit effort="30" velocity="1.0" lower="-10.0" upper="10.0" />
        <axis xyz="1 0 0" />
    </joint>
	<joint name="jRightC7Shoulder_roty" type="revolute">
        <origin xyz="0 0 0" rpy="0 0 0"/>
        <parent link="RightShoulder_f1"/>
        <child link="RightShoulder_f2"/>
        <dynamics damping="0.1" friction="0.0"/>
        <limit effort="30" velocity="1.0" lower="-10.0" upper="10.0" />
        <axis xyz="0 1 0" />
    </joint>
    <joint name="jRightC7Shoulder_rotz" type="revolute">
        <origin xyz="0 0 0" rpy="0 0 0"/>
        <parent link="RightShoulder_f2"/>
        <child link="RightShoulder"/>
        <dynamics damping="0.1" friction="0.0"/>
        <limit effort="30" velocity="1.0" lower="-10.0" upper="10.0" />
        <axis xyz="0 0 1" />
    </joint>
	<joint name="jRightShoulder_rotx" type="revolute">
        <origin xyz="0    -0.13996           0" rpy="0 0 0"/>
        <parent link="RightShoulder"/>
        <child link="RightUpperArm_f1"/>
        <dynamics damping="0.1" friction="0.0"/>
        <limit effort="30" velocity="1.0" lower="-10.0" upper="10.0" />
        <axis xyz="1 0 0" />
    </joint>
	<joint name="jRightShoulder_roty" type="revolute">
        <origin xyz="0 0 0" rpy="0 0 0"/>
        <parent link="RightUpperArm_f1"/>
        <child link="RightUpperArm_f2"/>
        <dynamics damping="0.1" friction="0.0"/>
        <limit effort="30" velocity="1.0" lower="-10.0" upper="10.0" />
        <axis xyz="0 1 0" />
    </joint>
    <joint name="jRightShoulder_rotz" type="revolute">
        <origin xyz="0 0 0" rpy="0 0 0"/>
        <parent link="RightUpperArm_f2"/>
        <child link="RightUpperArm"/>
        <dynamics damping="0.1" friction="0.0"/>
        <limit effort="30" velocity="1.0" lower="-10.0" upper="10.0" />
        <axis xyz="0 0 1" />
    </joint>
	<joint name="jRightElbow_rotx" type="revolute">
        <origin xyz="0    -0.30005           0" rpy="0 0 0"/>
        <parent link="RightUpperArm"/>
        <child link="RightForeArm_f1"/>
        <dynamics damping="0.1" friction="0.0"/>
        <limit effort="30" velocity="1.0" lower="-10.0" upper="10.0" />
        <axis xyz="1 0 0" />
    </joint>
	<joint name="jRightElbow_roty" type="revolute">
        <origin xyz="0 0 0" rpy="0 0 0"/>
        <parent link="RightForeArm_f1"/>
        <child link="RightForeArm_f2"/>
        <dynamics damping="0.1" friction="0.0"/>
        <limit effort="30" velocity="1.0" lower="-10.0" upper="10.0" />
        <axis xyz="0 1 0" />
    </joint>
    <joint name="jRightElbow_rotz" type="revolute">
        <origin xyz="0 0 0" rpy="0 0 0"/>
        <parent link="RightForeArm_f2"/>
        <child link="RightForeArm"/>
        <dynamics damping="0.1" friction="0.0"/>
        <limit effort="30" velocity="1.0" lower="-10.0" upper="10.0" />
        <axis xyz="0 0 1" />
    </joint>
	<joint name="jRightWrist_rotx" type="revolute">
        <origin xyz="1e-06    -0.24527           0" rpy="0 0 0"/>
        <parent link="RightForeArm"/>
        <child link="RightHand_f1"/>
        <dynamics damping="0.1" friction="0.0"/>
        <limit effort="30" velocity="1.0" lower="-10.0" upper="10.0" />
        <axis xyz="1 0 0" />
    </joint>
	<joint name="jRightWrist_roty" type="revolute">
        <origin xyz="0 0 0" rpy="0 0 0"/>
        <parent link="RightHand_f1"/>
        <child link="RightHand_f2"/>
        <dynamics damping="0.1" friction="0.0"/>
        <limit effort="30" velocity="1.0" lower="-10.0" upper="10.0" />
        <axis xyz="0 1 0" />
    </joint>
    <joint name="jRightWrist_rotz" type="revolute">
        <origin xyz="0 0 0" rpy="0 0 0"/>
        <parent link="RightHand_f2"/>
        <child link="RightHand"/>
        <dynamics damping="0.1" friction="0.0"/>
        <limit effort="30" velocity="1.0" lower="-10.0" upper="10.0" />
        <axis xyz="0 0 1" />
    </joint>
	<!--Chain from (12) to (15)-->
	<joint name="jLeftC7Shoulder_rotx" type="revolute">
        <origin xyz="0    0.030105    0.077497" rpy="0 0 0"/>
        <parent link="T8"/>
        <child link="LeftShoulder_f1"/>
        <dynamics damping="0.1" friction="0.0"/>
        <limit effort="30" velocity="1.0" lower="-10.0" upper="10.0" />
        <axis xyz="1 0 0" />
    </joint>
	<joint name="jLeftC7Shoulder_roty" type="revolute">
        <origin xyz="0 0 0" rpy="0 0 0"/>
        <parent link="LeftShoulder_f1"/>
        <child link="LeftShoulder_f2"/>
        <dynamics damping="0.1" friction="0.0"/>
        <limit effort="30" velocity="1.0" lower="-10.0" upper="10.0" />
        <axis xyz="0 1 0" />
    </joint>
    <joint name="jLeftC7Shoulder_rotz" type="revolute">
        <origin xyz="0 0 0" rpy="0 0 0"/>
        <parent link="LeftShoulder_f2"/>
        <child link="LeftShoulder"/>
        <dynamics damping="0.1" friction="0.0"/>
        <limit effort="30" velocity="1.0" lower="-10.0" upper="10.0" />
        <axis xyz="0 0 1" />
    </joint>
	<joint name="jLeftShoulder_rotx" type="revolute">
        <origin xyz="0     0.13996           0" rpy="0 0 0"/>
        <parent link="LeftShoulder"/>
        <child link="LeftUpperArm_f1"/>
        <dynamics damping="0.1" friction="0.0"/>
        <limit effort="30" velocity="1.0" lower="-10.0" upper="10.0" />
        <axis xyz="1 0 0" />
    </joint>
	<joint name="jLeftShoulder_roty" type="revolute">
        <origin xyz="0 0 0" rpy="0 0 0"/>
        <parent link="LeftUpperArm_f1"/>
        <child link="LeftUpperArm_f2"/>
        <dynamics damping="0.1" friction="0.0"/>
        <limit effort="30" velocity="1.0" lower="-10.0" upper="10.0" />
        <axis xyz="0 1 0" />
    </joint>
    <joint name="jLeftShoulder_rotz" type="revolute">
        <origin xyz="0 0 0" rpy="0 0 0"/>
        <parent link="LeftUpperArm_f2"/>
        <child link="LeftUpperArm"/>
        <dynamics damping="0.1" friction="0.0"/>
        <limit effort="30" velocity="1.0" lower="-10.0" upper="10.0" />
        <axis xyz="0 0 1" />
    </joint>
    <joint name="jLeftElbow_rotx" type="revolute">
        <origin xyz="0     0.30005           0" rpy="0 0 0"/>
        <parent link="LeftUpperArm"/>
        <child link="LeftForeArm_f1"/>
        <dynamics damping="0.1" friction="0.0"/>
        <limit effort="30" velocity="1.0" lower="-10.0" upper="10.0" />
        <axis xyz="1 0 0" />
    </joint>
	<joint name="jLeftElbow_roty" type="revolute">
        <origin xyz="0 0 0" rpy="0 0 0"/>
        <parent link="LeftForeArm_f1"/>
        <child link="LeftForeArm_f2"/>
        <dynamics damping="0.1" friction="0.0"/>
        <limit effort="30" velocity="1.0" lower="-10.0" upper="10.0" />
        <axis xyz="0 1 0" />
    </joint>
    <joint name="jLeftElbow_rotz" type="revolute">
        <origin xyz="0 0 0" rpy="0 0 0"/>
        <parent link="LeftForeArm_f2"/>
        <child link="LeftForeArm"/>
        <dynamics damping="0.1" friction="0.0"/>
        <limit effort="30" velocity="1.0" lower="-10.0" upper="10.0" />
        <axis xyz="0 0 1" />
    </joint>
	<joint name="jLeftWrist_rotx" type="revolute">
        <origin xyz="1e-06     0.24527           0" rpy="0 0 0"/>
        <parent link="LeftForeArm"/>
        <child link="LeftHand_f1"/>
        <dynamics damping="0.1" friction="0.0"/>
        <limit effort="30" velocity="1.0" lower="-10.0" upper="10.0" />
        <axis xyz="1 0 0" />
    </joint>
	<joint name="jLeftWrist_roty" type="revolute">
        <origin xyz="0 0 0" rpy="0 0 0"/>
        <parent link="LeftHand_f1"/>
        <child link="LeftHand_f2"/>
        <dynamics damping="0.1" friction="0.0"/>
        <limit effort="30" velocity="1.0" lower="-10.0" upper="10.0" />
        <axis xyz="0 1 0" />
    </joint>
    <joint name="jLeftWrist_rotz" type="revolute">
        <origin xyz="0 0 0" rpy="0 0 0"/>
        <parent link="LeftHand_f2"/>
        <child link="LeftHand"/>
        <dynamics damping="0.1" friction="0.0"/>
        <limit effort="30" velocity="1.0" lower="-10.0" upper="10.0" />
        <axis xyz="0 0 1" />
    </joint>
	<!--Chain from (16) to (19)-->
	<joint name="jRightHip_rotx" type="revolute">
        <origin xyz="-8e-06   -0.080069    -7.4e-05" rpy="0 0 0"/>
        <parent link="Pelvis"/>
        <child link="RightUpperLeg_f1"/>
        <dynamics damping="0.1" friction="0.0"/>
        <limit effort="30" velocity="1.0" lower="-10.0" upper="10.0" />
        <axis xyz="1 0 0" />
    </joint>
	<joint name="jRightHip_roty" type="revolute">
        <origin xyz="0 0 0" rpy="0 0 0"/>
        <parent link="RightUpperLeg_f1"/>
        <child link="RightUpperLeg_f2"/>
        <dynamics damping="0.1" friction="0.0"/>
        <limit effort="30" velocity="1.0" lower="-10.0" upper="10.0" />
        <axis xyz="0 1 0" />
    </joint>
    <joint name="jRightHip_rotz" type="revolute">
        <origin xyz="0 0 0" rpy="0 0 0"/>
        <parent link="RightUpperLeg_f2"/>
        <child link="RightUpperLeg"/>
        <dynamics damping="0.1" friction="0.0"/>
        <limit effort="30" velocity="1.0" lower="-10.0" upper="10.0" />
        <axis xyz="0 0 1" />
    </joint>
	<joint name="jRightKnee_rotx" type="revolute">
        <origin xyz="8e-06           0    -0.42004" rpy="0 0 0"/>
        <parent link="RightUpperLeg"/>
        <child link="RightLowerLeg_f1"/>
        <dynamics damping="0.1" friction="0.0"/>
        <limit effort="30" velocity="1.0" lower="-10.0" upper="10.0" />
        <axis xyz="1 0 0" />
    </joint>
	<joint name="jRightKnee_roty" type="revolute">
        <origin xyz="0 0 0" rpy="0 0 0"/>
        <parent link="RightLowerLeg_f1"/>
        <child link="RightLowerLeg_f2"/>
        <dynamics damping="0.1" friction="0.0"/>
        <limit effort="30" velocity="1.0" lower="-10.0" upper="10.0" />
        <axis xyz="0 1 0" />
    </joint>
    <joint name="jRightKnee_rotz" type="revolute">
        <origin xyz="0 0 0" rpy="0 0 0"/>
        <parent link="RightLowerLeg_f2"/>
        <child link="RightLowerLeg"/>
        <dynamics damping="0.1" friction="0.0"/>
        <limit effort="30" velocity="1.0" lower="-10.0" upper="10.0" />
        <axis xyz="0 0 1" />
    </joint>
	<joint name="jRightAnkle_rotx" type="revolute">
        <origin xyz="0.00046           0    -0.40734" rpy="0 0 0"/>
        <parent link="RightLowerLeg"/>
        <child link="RightFoot_f1"/>
        <dynamics damping="0.1" friction="0.0"/>
        <limit effort="30" velocity="1.0" lower="-10.0" upper="10.0" />
        <axis xyz="1 0 0" />
    </joint>
	<joint name="jRightAnkle_roty" type="revolute">
        <origin xyz="0 0 0" rpy="0 0 0"/>
        <parent link="RightFoot_f1"/>
        <child link="RightFoot_f2"/>
        <dynamics damping="0.1" friction="0.0"/>
        <limit effort="30" velocity="1.0" lower="-10.0" upper="10.0" />
        <axis xyz="0 1 0" />
    </joint>
    <joint name="jRightAnkle_rotz" type="revolute">
        <origin xyz="0 0 0" rpy="0 0 0"/>
        <parent link="RightFoot_f2"/>
        <child link="RightFoot"/>
        <dynamics damping="0.1" friction="0.0"/>
        <limit effort="30" velocity="1.0" lower="-10.0" upper="10.0" />
        <axis xyz="0 0 1" />
    </joint>
	<joint name="jRightBallFoot_rotx" type="revolute">
        <origin xyz="0.15263           0   -0.088953" rpy="0 0 0"/>
        <parent link="RightFoot"/>
        <child link="RightToe_f1"/>
        <dynamics damping="0.1" friction="0.0"/>
        <limit effort="30" velocity="1.0" lower="-10.0" upper="10.0" />
        <axis xyz="1 0 0" />
    </joint>
	<joint name="jRightBallFoot_roty" type="revolute">
        <origin xyz="0 0 0" rpy="0 0 0"/>
        <parent link="RightToe_f1"/>
        <child link="RightToe_f2"/>
        <dynamics damping="0.1" friction="0.0"/>
        <limit effort="30" velocity="1.0" lower="-10.0" upper="10.0" />
        <axis xyz="0 1 0" />
    </joint>
    <joint name="jRightBallFoot_rotz" type="revolute">
        <origin xyz="0 0 0" rpy="0 0 0"/>
        <parent link="RightToe_f2"/>
        <child link="RightToe"/>
        <dynamics damping="0.1" friction="0.0"/>
        <limit effort="30" velocity="1.0" lower="-10.0" upper="10.0" />
        <axis xyz="0 0 1" />
    </joint>
	<!--Chain from (20) to (23)-->
	<joint name="jLeftHip_rotx" type="revolute">
        <origin xyz="-8e-06    0.080069    -7.4e-05" rpy="0 0 0"/>
        <parent link="Pelvis"/>
        <child link="LeftUpperLeg_f1"/>
        <dynamics damping="0.1" friction="0.0"/>
        <limit effort="30" velocity="1.0" lower="-10.0" upper="10.0" />
        <axis xyz="1 0 0" />
    </joint>
	<joint name="jLeftHip_roty" type="revolute">
        <origin xyz="0 0 0" rpy="0 0 0"/>
        <parent link="LeftUpperLeg_f1"/>
        <child link="LeftUpperLeg_f2"/>
        <dynamics damping="0.1" friction="0.0"/>
        <limit effort="30" velocity="1.0" lower="-10.0" upper="10.0" />
        <axis xyz="0 1 0" />
    </joint>
    <joint name="jLeftHip_rotz" type="revolute">
        <origin xyz="0 0 0" rpy="0 0 0"/>
        <parent link="LeftUpperLeg_f2"/>
        <child link="LeftUpperLeg"/>
        <dynamics damping="0.1" friction="0.0"/>
        <limit effort="30" velocity="1.0" lower="-10.0" upper="10.0" />
        <axis xyz="0 0 1" />
    </joint>
	<joint name="jLeftKnee_rotx" type="revolute">
        <origin xyz="8e-06           0    -0.42004" rpy="0 0 0"/>
        <parent link="LeftUpperLeg"/>
        <child link="LeftLowerLeg_f1"/>
        <dynamics damping="0.1" friction="0.0"/>
        <limit effort="30" velocity="1.0" lower="-10.0" upper="10.0" />
        <axis xyz="1 0 0" />
    </joint>
	<joint name="jLeftKnee_roty" type="revolute">
        <origin xyz="0 0 0" rpy="0 0 0"/>
        <parent link="LeftLowerLeg_f1"/>
        <child link="LeftLowerLeg_f2"/>
        <dynamics damping="0.1" friction="0.0"/>
        <limit effort="30" velocity="1.0" lower="-10.0" upper="10.0" />
        <axis xyz="0 1 0" />
    </joint>
    <joint name="jLeftKnee_rotz" type="revolute">
        <origin xyz="0 0 0" rpy="0 0 0"/>
        <parent link="LeftLowerLeg_f2"/>
        <child link="LeftLowerLeg"/>
        <dynamics damping="0.1" friction="0.0"/>
        <limit effort="30" velocity="1.0" lower="-10.0" upper="10.0" />
        <axis xyz="0 0 1" />
    </joint>
	<joint name="jLeftAnkle_rotx" type="revolute">
        <origin xyz="0.00046           0    -0.40734" rpy="0 0 0"/>
        <parent link="LeftLowerLeg"/>
        <child link="LeftFoot_f1"/>
        <dynamics damping="0.1" friction="0.0"/>
        <limit effort="30" velocity="1.0" lower="-10.0" upper="10.0" />
        <axis xyz="1 0 0" />
    </joint>
	<joint name="jLeftAnkle_roty" type="revolute">
        <origin xyz="0 0 0" rpy="0 0 0"/>
        <parent link="LeftFoot_f1"/>
        <child link="LeftFoot_f2"/>
        <dynamics damping="0.1" friction="0.0"/>
        <limit effort="30" velocity="1.0" lower="-10.0" upper="10.0" />
        <axis xyz="0 1 0" />
    </joint>
    <joint name="jLeftAnkle_rotz" type="revolute">
        <origin xyz="0 0 0" rpy="0 0 0"/>
        <parent link="LeftFoot_f2"/>
        <child link="LeftFoot"/>
        <dynamics damping="0.1" friction="0.0"/>
        <limit effort="30" velocity="1.0" lower="-10.0" upper="10.0" />
        <axis xyz="0 0 1" />
    </joint>
	<joint name="jLeftBallFoot_rotx" type="revolute">
        <origin xyz="0.15263           0   -0.088953" rpy="0 0 0"/>
        <parent link="LeftFoot"/>
        <child link="LeftToe_f1"/>
        <dynamics damping="0.1" friction="0.0"/>
        <limit effort="30" velocity="1.0" lower="-10.0" upper="10.0" />
        <axis xyz="1 0 0" />
    </joint>
	<joint name="jLeftBallFoot_roty" type="revolute">
        <origin xyz="0 0 0" rpy="0 0 0"/>
        <parent link="LeftToe_f1"/>
        <child link="LeftToe_f2"/>
        <dynamics damping="0.1" friction="0.0"/>
        <limit effort="30" velocity="1.0" lower="-10.0" upper="10.0" />
        <axis xyz="0 1 0" />
    </joint>
    <joint name="jLeftBallFoot_rotz" type="revolute">
        <origin xyz="0 0 0" rpy="0 0 0"/>
        <parent link="LeftToe_f2"/>
        <child link="LeftToe"/>
        <dynamics damping="0.1" friction="0.0"/>
        <limit effort="30" velocity="1.0" lower="-10.0" upper="10.0" />
        <axis xyz="0 0 1" />
    </joint>

	<!-- Sensor  1-->
<sensor name="Pelvis_gyro" type="gyroscope">
<parent link="Pelvis"/>
<origin xyz="-0.055881  0.00020678    0.095148" rpy="0.094617      1.0086     -3.0304"/>
</sensor>
<sensor name="Pelvis_accelerometer" type="accelerometer">
<parent link="Pelvis"/>
<origin xyz="-0.055881  0.00020678    0.095148" rpy="0.094617      1.0086     -3.0304"/>
</sensor>
<!-- Sensor  2-->
<sensor name="T8_gyro" type="gyroscope">
<parent link="T8"/>
<origin xyz="0.14068  6.2838e-06    0.077433" rpy="-0.077161      1.1064    -0.17687"/>
</sensor>
<sensor name="T8_accelerometer" type="accelerometer">
<parent link="T8"/>
<origin xyz="0.14068  6.2838e-06    0.077433" rpy="-0.077161      1.1064    -0.17687"/>
</sensor>
<!-- Sensor  3-->
<sensor name="Head_gyro" type="gyroscope">
<parent link="Head"/>
<origin xyz="-0.06975 -2.1628e-05    0.076683" rpy="2.3836  -0.0032688     -1.7942"/>
</sensor>
<sensor name="Head_accelerometer" type="accelerometer">
<parent link="Head"/>
<origin xyz="-0.06975 -2.1628e-05    0.076683" rpy="2.3836  -0.0032688     -1.7942"/>
</sensor>
<!-- Sensor  4-->
<sensor name="RightShoulder_gyro" type="gyroscope">
<parent link="RightShoulder"/>
<origin xyz="-0.020002   -0.049977   -0.059953" rpy="1.0711    -0.16714    -0.95844"/>
</sensor>
<sensor name="RightShoulder_accelerometer" type="accelerometer">
<parent link="RightShoulder"/>
<origin xyz="-0.020002   -0.049977   -0.059953" rpy="1.0711    -0.16714    -0.95844"/>
</sensor>
<!-- Sensor  5-->
<sensor name="RightUpperArm_gyro" type="gyroscope">
<parent link="RightUpperArm"/>
<origin xyz="-0.020047   -0.099952    0.019983" rpy="-0.10514    0.025819     -1.5224"/>
</sensor>
<sensor name="RightUpperArm_accelerometer" type="accelerometer">
<parent link="RightUpperArm"/>
<origin xyz="-0.020047   -0.099952    0.019983" rpy="-0.10514    0.025819     -1.5224"/>
</sensor>
<!-- Sensor  6-->
<sensor name="RightForeArm_gyro" type="gyroscope">
<parent link="RightForeArm"/>
<origin xyz="0.0018328    -0.20024    0.019978" rpy="-0.41688   -0.021387     -1.2563"/>
</sensor>
<sensor name="RightForeArm_accelerometer" type="accelerometer">
<parent link="RightForeArm"/>
<origin xyz="0.0018328    -0.20024    0.019978" rpy="-0.41688   -0.021387     -1.2563"/>
</sensor>
<!-- Sensor  7-->
<sensor name="RightHand_gyro" type="gyroscope">
<parent link="RightHand"/>
<origin xyz="-7.5053e-06   -0.054958    0.020014" rpy="-0.37028    0.088894     -1.5331"/>
</sensor>
<sensor name="RightHand_accelerometer" type="accelerometer">
<parent link="RightHand"/>
<origin xyz="-7.5053e-06   -0.054958    0.020014" rpy="-0.37028    0.088894     -1.5331"/>
</sensor>
<!-- Sensor  8-->
<sensor name="LeftShoulder_gyro" type="gyroscope">
<parent link="LeftShoulder"/>
<origin xyz="-0.019992    0.049973    -0.05994" rpy="-1.0318    -0.19235      1.1962"/>
</sensor>
<sensor name="LeftShoulder_accelerometer" type="accelerometer">
<parent link="LeftShoulder"/>
<origin xyz="-0.019992    0.049973    -0.05994" rpy="-1.0318    -0.19235      1.1962"/>
</sensor>
<!-- Sensor  9-->
<sensor name="LeftUpperArm_gyro" type="gyroscope">
<parent link="LeftUpperArm"/>
<origin xyz="-0.020025    0.099939    0.019989" rpy="0.064789   -0.084026      1.4526"/>
</sensor>
<sensor name="LeftUpperArm_accelerometer" type="accelerometer">
<parent link="LeftUpperArm"/>
<origin xyz="-0.020025    0.099939    0.019989" rpy="0.064789   -0.084026      1.4526"/>
</sensor>
<!-- Sensor  10-->
<sensor name="LeftForeArm_gyro" type="gyroscope">
<parent link="LeftForeArm"/>
<origin xyz="0.0017837     0.20024    0.020006" rpy="0.72472      0.1279      1.0326"/>
</sensor>
<sensor name="LeftForeArm_accelerometer" type="accelerometer">
<parent link="LeftForeArm"/>
<origin xyz="0.0017837     0.20024    0.020006" rpy="0.72472      0.1279      1.0326"/>
</sensor>
<!-- Sensor  11-->
<sensor name="LeftHand_gyro" type="gyroscope">
<parent link="LeftHand"/>
<origin xyz="-3.1578e-05    0.054994    0.019979" rpy="-0.88757   0.0059868      1.7618"/>
</sensor>
<sensor name="LeftHand_accelerometer" type="accelerometer">
<parent link="LeftHand"/>
<origin xyz="-3.1578e-05    0.054994    0.019979" rpy="-0.88757   0.0059868      1.7618"/>
</sensor>
<!-- Sensor  12-->
<sensor name="RightUpperLeg_gyro" type="gyroscope">
<parent link="RightUpperLeg"/>
<origin xyz="0.013338   -0.044248    -0.25239" rpy="-3.0702      1.3416      1.8771"/>
</sensor>
<sensor name="RightUpperLeg_accelerometer" type="accelerometer">
<parent link="RightUpperLeg"/>
<origin xyz="0.013338   -0.044248    -0.25239" rpy="-3.0702      1.3416      1.8771"/>
</sensor>
<!-- Sensor  13-->
<sensor name="RightLowerLeg_gyro" type="gyroscope">
<parent link="RightLowerLeg"/>
<origin xyz="0.031063   0.0066293    -0.13321" rpy="-3.0874      1.4644     -2.7215"/>
</sensor>
<sensor name="RightLowerLeg_accelerometer" type="accelerometer">
<parent link="RightLowerLeg"/>
<origin xyz="0.031063   0.0066293    -0.13321" rpy="-3.0874      1.4644     -2.7215"/>
</sensor>
<!-- Sensor  14-->
<sensor name="RightFoot_gyro" type="gyroscope">
<parent link="RightFoot"/>
<origin xyz="0.089471   0.0011861   -0.012554" rpy="-0.07906     0.83912    -0.38361"/>
</sensor>
<sensor name="RightFoot_accelerometer" type="accelerometer">
<parent link="RightFoot"/>
<origin xyz="0.089471   0.0011861   -0.012554" rpy="-0.07906     0.83912    -0.38361"/>
</sensor>
<!-- Sensor  15-->
<sensor name="LeftUpperLeg_gyro" type="gyroscope">
<parent link="LeftUpperLeg"/>
<origin xyz="0.01207    0.043037    -0.25269" rpy="-3.11      1.3262    -0.93453"/>
</sensor>
<sensor name="LeftUpperLeg_accelerometer" type="accelerometer">
<parent link="LeftUpperLeg"/>
<origin xyz="0.01207    0.043037    -0.25269" rpy="-3.11      1.3262    -0.93453"/>
</sensor>
<!-- Sensor  16-->
<sensor name="LeftLowerLeg_gyro" type="gyroscope">
<parent link="LeftLowerLeg"/>
<origin xyz="0.030962  -0.0070902    -0.13319" rpy="-2.05      1.5347     -2.3088"/>
</sensor>
<sensor name="LeftLowerLeg_accelerometer" type="accelerometer">
<parent link="LeftLowerLeg"/>
<origin xyz="0.030962  -0.0070902    -0.13319" rpy="-2.05      1.5347     -2.3088"/>
</sensor>
<!-- Sensor  17-->
<sensor name="LeftFoot_gyro" type="gyroscope">
<parent link="LeftFoot"/>
<origin xyz="0.089484  -0.0013526   -0.012584" rpy="-0.35797     0.75899     0.20577"/>
</sensor>
<sensor name="LeftFoot_accelerometer" type="accelerometer">
<parent link="LeftFoot"/>
<origin xyz="0.089484  -0.0013526   -0.012584" rpy="-0.35797     0.75899     0.20577"/>
</sensor>


</robot>
